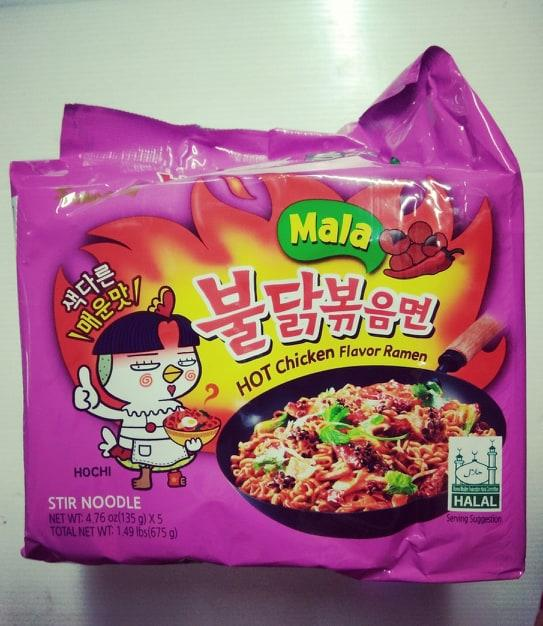Snack: (4, 144, 535, 590)
